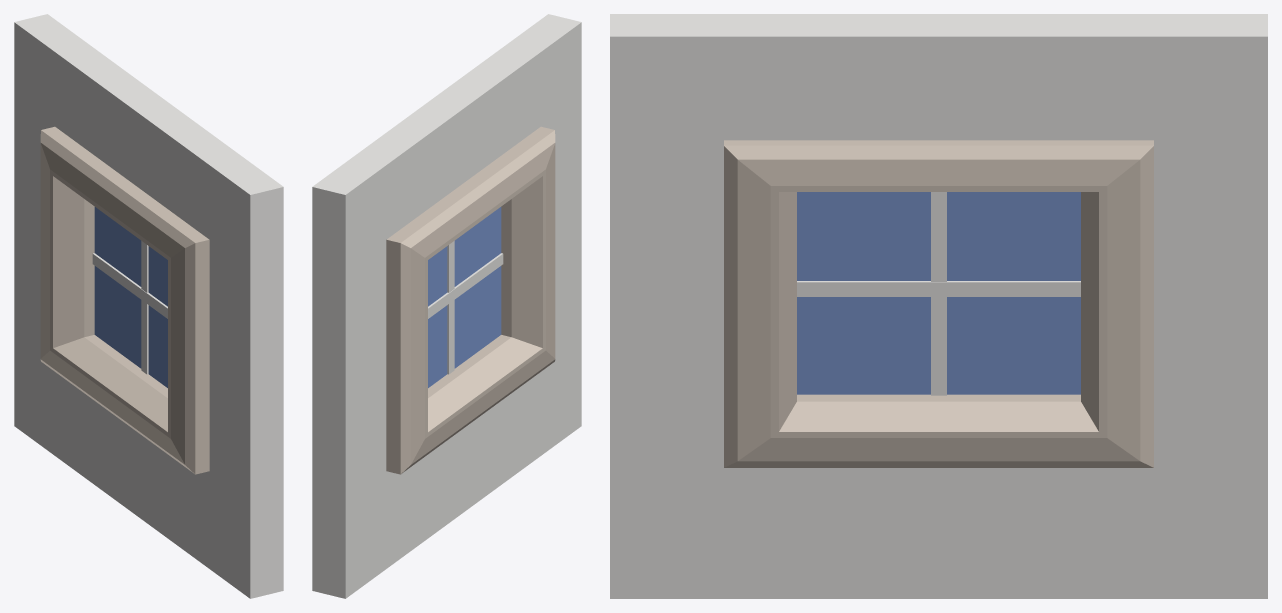
Rendered from Window02_house01.fbx.
3 renders of one model, left to right at view 1: azimuth 30°, elevation 25°; view 2: azimuth 150°, elevation 25°; view 3: azimuth 270°, elevation 25°, orthographic. The views are drawn at different scales.
Visible parts, largest first — view 1: Window02_House01; view 2: Window02_House01; view 3: Window02_House01.
Boxes of the visible parts, <box> form: Window02_House01: <box>14,14,283,598</box>; Window02_House01: <box>312,14,581,598</box>; Window02_House01: <box>610,14,1267,598</box>.
Bounding box in the file's own units: 54.79 × 300 × 319.
